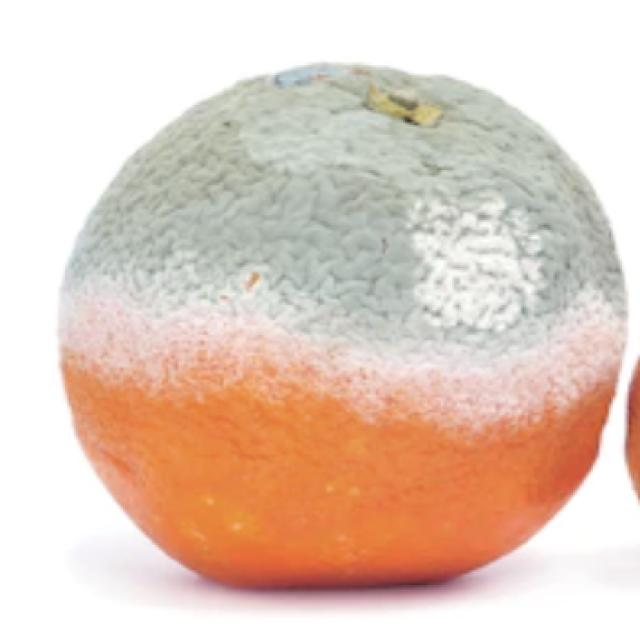sangat_busuk: (63, 53, 626, 598)
